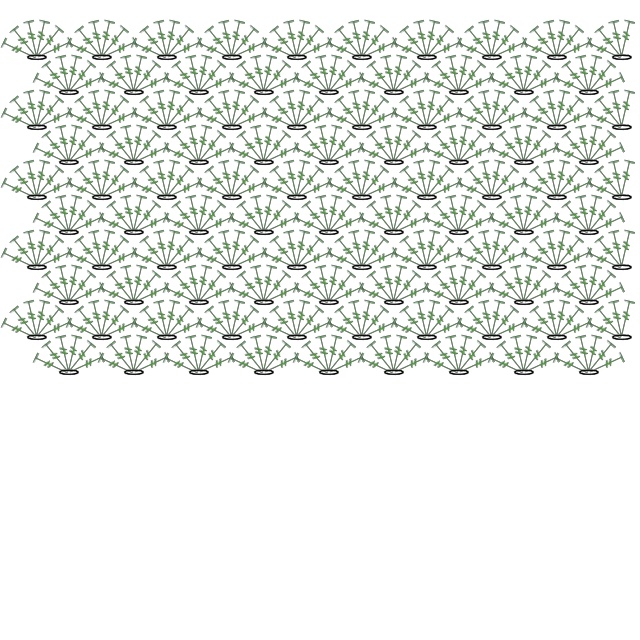chain: (57, 88, 81, 98), (122, 88, 146, 98), (187, 88, 211, 98), (252, 88, 276, 98), (317, 88, 341, 98), (382, 88, 406, 98), (447, 88, 471, 98), (512, 88, 536, 98), (577, 88, 601, 98), (57, 158, 81, 168), (122, 158, 146, 168), (187, 158, 211, 168), (252, 158, 276, 168), (317, 158, 341, 168), (382, 158, 406, 168), (447, 158, 471, 168), (512, 158, 536, 168), (577, 158, 601, 168), (57, 228, 81, 238), (122, 228, 146, 238), (187, 228, 211, 238), (252, 228, 276, 238), (317, 228, 341, 238), (382, 228, 406, 238), (447, 228, 471, 238), (512, 228, 536, 238), (577, 228, 601, 238), (57, 298, 81, 308), (122, 298, 146, 308), (187, 298, 211, 308), (252, 298, 276, 308), (317, 298, 341, 308), (382, 298, 406, 308), (447, 298, 471, 308), (512, 298, 536, 308), (577, 298, 601, 308), (57, 368, 81, 378), (122, 368, 146, 378), (187, 368, 211, 378), (252, 368, 276, 378), (317, 368, 341, 378), (382, 368, 406, 378), (447, 368, 471, 378), (512, 368, 536, 378), (577, 368, 601, 378), (25, 54, 49, 62), (90, 54, 114, 62), (155, 54, 179, 62), (220, 54, 244, 62), (285, 54, 309, 62), (350, 54, 374, 62), (415, 54, 439, 62), (480, 54, 504, 62), (545, 54, 569, 62), (610, 54, 634, 62), (25, 124, 49, 132), (90, 124, 114, 132), (155, 124, 179, 132), (220, 124, 244, 132), (285, 124, 309, 132), (350, 124, 374, 132), (415, 124, 439, 132), (480, 124, 504, 132), (545, 124, 569, 132), (610, 124, 634, 132), (25, 194, 49, 202), (90, 194, 114, 202), (155, 194, 179, 202), (220, 194, 244, 202), (285, 194, 309, 202), (350, 194, 374, 202), (415, 194, 439, 202), (480, 194, 504, 202), (545, 194, 569, 202), (610, 194, 634, 202), (25, 264, 49, 272), (90, 264, 114, 272), (155, 264, 179, 272), (220, 264, 244, 272), (285, 264, 309, 272), (350, 264, 374, 272), (415, 264, 439, 272), (480, 264, 504, 272), (545, 264, 569, 272), (610, 264, 634, 272), (25, 334, 49, 342), (90, 334, 114, 342), (155, 334, 179, 342), (220, 334, 244, 342), (285, 334, 309, 342), (350, 334, 374, 342), (415, 334, 439, 342), (480, 334, 504, 342), (545, 334, 569, 342), (610, 334, 634, 342)
fan: (8, 24, 42, 62), (32, 24, 66, 62), (73, 24, 107, 62), (97, 24, 131, 62), (138, 24, 172, 62), (162, 24, 196, 62), (203, 24, 237, 62), (227, 24, 261, 62), (268, 24, 302, 62), (292, 24, 326, 62), (333, 24, 367, 62), (357, 24, 391, 62), (398, 24, 432, 62), (422, 24, 456, 62), (463, 24, 497, 62), (487, 24, 521, 62), (528, 24, 562, 62), (552, 24, 586, 62), (593, 24, 627, 62), (40, 59, 74, 97), (64, 59, 98, 97), (105, 59, 139, 97), (129, 59, 163, 97), (170, 59, 204, 97), (194, 59, 228, 97), (235, 59, 269, 97), (259, 59, 293, 97), (300, 59, 334, 97), (324, 59, 358, 97), (365, 59, 399, 97), (389, 59, 423, 97), (430, 59, 464, 97), (454, 59, 488, 97), (495, 59, 529, 97), (519, 59, 553, 97), (560, 59, 594, 97), (584, 59, 618, 97), (8, 94, 42, 132), (32, 94, 66, 132), (73, 94, 107, 132), (97, 94, 131, 132), (138, 94, 172, 132), (162, 94, 196, 132), (203, 94, 237, 132), (227, 94, 261, 132), (268, 94, 302, 132), (292, 94, 326, 132), (333, 94, 367, 132), (357, 94, 391, 132), (398, 94, 432, 132), (422, 94, 456, 132), (463, 94, 497, 132), (487, 94, 521, 132), (528, 94, 562, 132), (552, 94, 586, 132), (593, 94, 627, 132), (40, 129, 74, 167), (64, 129, 98, 167), (105, 129, 139, 167), (129, 129, 163, 167), (170, 129, 204, 167), (194, 129, 228, 167), (235, 129, 269, 167), (259, 129, 293, 167), (300, 129, 334, 167), (324, 129, 358, 167), (365, 129, 399, 167), (389, 129, 423, 167), (430, 129, 464, 167), (454, 129, 488, 167), (495, 129, 529, 167), (519, 129, 553, 167), (560, 129, 594, 167), (584, 129, 618, 167), (8, 164, 42, 202), (32, 164, 66, 202), (73, 164, 107, 202), (97, 164, 131, 202), (138, 164, 172, 202), (162, 164, 196, 202), (203, 164, 237, 202), (227, 164, 261, 202), (268, 164, 302, 202), (292, 164, 326, 202), (333, 164, 367, 202), (357, 164, 391, 202), (398, 164, 432, 202), (422, 164, 456, 202), (463, 164, 497, 202), (487, 164, 521, 202), (528, 164, 562, 202), (552, 164, 586, 202), (593, 164, 627, 202), (40, 199, 74, 237), (64, 199, 98, 237), (105, 199, 139, 237), (129, 199, 163, 237), (170, 199, 204, 237), (194, 199, 228, 237), (235, 199, 269, 237), (259, 199, 293, 237), (300, 199, 334, 237), (324, 199, 358, 237), (365, 199, 399, 237), (389, 199, 423, 237), (430, 199, 464, 237), (454, 199, 488, 237), (495, 199, 529, 237), (519, 199, 553, 237), (560, 199, 594, 237), (584, 199, 618, 237), (8, 234, 42, 272), (32, 234, 66, 272), (73, 234, 107, 272), (97, 234, 131, 272), (138, 234, 172, 272), (162, 234, 196, 272), (203, 234, 237, 272), (227, 234, 261, 272), (268, 234, 302, 272), (292, 234, 326, 272), (333, 234, 367, 272), (357, 234, 391, 272), (398, 234, 432, 272), (422, 234, 456, 272), (463, 234, 497, 272), (487, 234, 521, 272), (528, 234, 562, 272), (552, 234, 586, 272), (593, 234, 627, 272), (40, 269, 74, 307), (64, 269, 98, 307), (105, 269, 139, 307), (129, 269, 163, 307), (170, 269, 204, 307), (194, 269, 228, 307), (235, 269, 269, 307), (259, 269, 293, 307), (300, 269, 334, 307), (324, 269, 358, 307), (365, 269, 399, 307), (389, 269, 423, 307), (430, 269, 464, 307), (454, 269, 488, 307), (495, 269, 529, 307), (519, 269, 553, 307), (560, 269, 594, 307), (584, 269, 618, 307), (8, 304, 42, 342), (32, 304, 66, 342), (73, 304, 107, 342), (97, 304, 131, 342), (138, 304, 172, 342), (162, 304, 196, 342), (203, 304, 237, 342), (227, 304, 261, 342), (268, 304, 302, 342), (292, 304, 326, 342), (333, 304, 367, 342), (357, 304, 391, 342), (398, 304, 432, 342), (422, 304, 456, 342), (463, 304, 497, 342), (487, 304, 521, 342), (528, 304, 562, 342), (552, 304, 586, 342), (593, 304, 627, 342), (40, 339, 74, 377), (64, 339, 98, 377), (105, 339, 139, 377), (129, 339, 163, 377), (170, 339, 204, 377), (194, 339, 228, 377), (235, 339, 269, 377), (259, 339, 293, 377), (300, 339, 334, 377), (324, 339, 358, 377), (365, 339, 399, 377), (389, 339, 423, 377), (430, 339, 464, 377), (454, 339, 488, 377), (495, 339, 529, 377), (519, 339, 553, 377), (560, 339, 594, 377), (584, 339, 618, 377), (0, 36, 40, 64), (34, 36, 74, 64), (65, 36, 105, 64), (99, 36, 139, 64), (130, 36, 170, 64), (164, 36, 204, 64), (195, 36, 235, 64), (229, 36, 269, 64), (260, 36, 300, 64), (294, 36, 334, 64), (325, 36, 365, 64), (359, 36, 399, 64), (390, 36, 430, 64), (424, 36, 464, 64), (455, 36, 495, 64), (489, 36, 529, 64), (520, 36, 560, 64), (554, 36, 594, 64), (585, 36, 625, 64), (32, 71, 72, 99), (66, 71, 106, 99), (97, 71, 137, 99), (131, 71, 171, 99), (162, 71, 202, 99), (196, 71, 236, 99), (227, 71, 267, 99), (261, 71, 301, 99), (292, 71, 332, 99), (326, 71, 366, 99), (357, 71, 397, 99), (391, 71, 431, 99), (422, 71, 462, 99), (456, 71, 496, 99), (487, 71, 527, 99), (521, 71, 561, 99), (552, 71, 592, 99), (586, 71, 626, 99), (0, 106, 40, 134), (34, 106, 74, 134), (65, 106, 105, 134), (99, 106, 139, 134), (130, 106, 170, 134), (164, 106, 204, 134), (195, 106, 235, 134), (229, 106, 269, 134), (260, 106, 300, 134), (294, 106, 334, 134), (325, 106, 365, 134), (359, 106, 399, 134), (390, 106, 430, 134), (424, 106, 464, 134), (455, 106, 495, 134), (489, 106, 529, 134), (520, 106, 560, 134), (554, 106, 594, 134), (585, 106, 625, 134), (32, 141, 72, 169), (66, 141, 106, 169), (97, 141, 137, 169), (131, 141, 171, 169), (162, 141, 202, 169), (196, 141, 236, 169), (227, 141, 267, 169), (261, 141, 301, 169), (292, 141, 332, 169), (326, 141, 366, 169), (357, 141, 397, 169), (391, 141, 431, 169), (422, 141, 462, 169), (456, 141, 496, 169), (487, 141, 527, 169), (521, 141, 561, 169), (552, 141, 592, 169), (586, 141, 626, 169), (0, 176, 40, 204), (34, 176, 74, 204), (65, 176, 105, 204), (99, 176, 139, 204), (130, 176, 170, 204), (164, 176, 204, 204), (195, 176, 235, 204), (229, 176, 269, 204), (260, 176, 300, 204), (294, 176, 334, 204), (325, 176, 365, 204), (359, 176, 399, 204), (390, 176, 430, 204), (424, 176, 464, 204), (455, 176, 495, 204), (489, 176, 529, 204), (520, 176, 560, 204), (554, 176, 594, 204), (585, 176, 625, 204), (32, 211, 72, 239), (66, 211, 106, 239), (97, 211, 137, 239), (131, 211, 171, 239), (162, 211, 202, 239), (196, 211, 236, 239), (227, 211, 267, 239), (261, 211, 301, 239), (292, 211, 332, 239), (326, 211, 366, 239), (357, 211, 397, 239), (391, 211, 431, 239), (422, 211, 462, 239), (456, 211, 496, 239), (487, 211, 527, 239), (521, 211, 561, 239), (552, 211, 592, 239), (586, 211, 626, 239), (0, 246, 40, 274), (34, 246, 74, 274), (65, 246, 105, 274), (99, 246, 139, 274), (130, 246, 170, 274), (164, 246, 204, 274), (195, 246, 235, 274), (229, 246, 269, 274), (260, 246, 300, 274), (294, 246, 334, 274), (325, 246, 365, 274), (359, 246, 399, 274), (390, 246, 430, 274), (424, 246, 464, 274), (455, 246, 495, 274), (489, 246, 529, 274), (520, 246, 560, 274), (554, 246, 594, 274), (585, 246, 625, 274), (32, 281, 72, 309), (66, 281, 106, 309), (97, 281, 137, 309), (131, 281, 171, 309), (162, 281, 202, 309), (196, 281, 236, 309), (227, 281, 267, 309), (261, 281, 301, 309), (292, 281, 332, 309), (326, 281, 366, 309), (357, 281, 397, 309), (391, 281, 431, 309), (422, 281, 462, 309), (456, 281, 496, 309), (487, 281, 527, 309), (521, 281, 561, 309), (552, 281, 592, 309), (586, 281, 626, 309), (0, 316, 40, 344), (34, 316, 74, 344), (65, 316, 105, 344), (99, 316, 139, 344), (130, 316, 170, 344), (164, 316, 204, 344), (195, 316, 235, 344), (229, 316, 269, 344), (260, 316, 300, 344), (294, 316, 334, 344), (325, 316, 365, 344), (359, 316, 399, 344), (390, 316, 430, 344), (424, 316, 464, 344), (455, 316, 495, 344), (489, 316, 529, 344), (520, 316, 560, 344), (554, 316, 594, 344), (585, 316, 625, 344), (32, 351, 72, 379), (66, 351, 106, 379), (97, 351, 137, 379), (131, 351, 171, 379), (162, 351, 202, 379), (196, 351, 236, 379), (227, 351, 267, 379), (261, 351, 301, 379), (292, 351, 332, 379), (326, 351, 366, 379), (357, 351, 397, 379), (391, 351, 431, 379), (422, 351, 462, 379), (456, 351, 496, 379), (487, 351, 527, 379), (521, 351, 561, 379), (552, 351, 592, 379), (586, 351, 626, 379), (22, 20, 43, 59), (31, 20, 52, 59), (87, 20, 108, 59), (96, 20, 117, 59), (152, 20, 173, 59), (161, 20, 182, 59), (217, 20, 238, 59), (226, 20, 247, 59), (282, 20, 303, 59), (291, 20, 312, 59), (347, 20, 368, 59), (356, 20, 377, 59), (412, 20, 433, 59), (421, 20, 442, 59), (477, 20, 498, 59), (486, 20, 507, 59), (542, 20, 563, 59), (551, 20, 572, 59), (607, 20, 628, 59), (616, 20, 637, 59), (54, 55, 75, 94), (63, 55, 84, 94), (119, 55, 140, 94), (128, 55, 149, 94), (184, 55, 205, 94), (193, 55, 214, 94), (249, 55, 270, 94), (258, 55, 279, 94), (314, 55, 335, 94), (323, 55, 344, 94), (379, 55, 400, 94), (388, 55, 409, 94), (444, 55, 465, 94), (453, 55, 474, 94), (509, 55, 530, 94), (518, 55, 539, 94), (574, 55, 595, 94), (583, 55, 604, 94), (22, 90, 43, 129), (31, 90, 52, 129), (87, 90, 108, 129), (96, 90, 117, 129), (152, 90, 173, 129), (161, 90, 182, 129), (217, 90, 238, 129), (226, 90, 247, 129), (282, 90, 303, 129), (291, 90, 312, 129), (347, 90, 368, 129), (356, 90, 377, 129), (412, 90, 433, 129), (421, 90, 442, 129), (477, 90, 498, 129), (486, 90, 507, 129), (542, 90, 563, 129), (551, 90, 572, 129), (607, 90, 628, 129), (616, 90, 637, 129), (54, 125, 75, 164), (63, 125, 84, 164), (119, 125, 140, 164), (128, 125, 149, 164), (184, 125, 205, 164), (193, 125, 214, 164), (249, 125, 270, 164), (258, 125, 279, 164), (314, 125, 335, 164), (323, 125, 344, 164), (379, 125, 400, 164), (388, 125, 409, 164), (444, 125, 465, 164), (453, 125, 474, 164), (509, 125, 530, 164), (518, 125, 539, 164), (574, 125, 595, 164), (583, 125, 604, 164), (22, 160, 43, 199), (31, 160, 52, 199), (87, 160, 108, 199), (96, 160, 117, 199), (152, 160, 173, 199), (161, 160, 182, 199), (217, 160, 238, 199), (226, 160, 247, 199), (282, 160, 303, 199), (291, 160, 312, 199), (347, 160, 368, 199), (356, 160, 377, 199), (412, 160, 433, 199), (421, 160, 442, 199), (477, 160, 498, 199), (486, 160, 507, 199), (542, 160, 563, 199), (551, 160, 572, 199), (607, 160, 628, 199), (616, 160, 637, 199), (54, 195, 75, 234), (63, 195, 84, 234), (119, 195, 140, 234), (128, 195, 149, 234), (184, 195, 205, 234), (193, 195, 214, 234), (249, 195, 270, 234), (258, 195, 279, 234), (314, 195, 335, 234), (323, 195, 344, 234), (379, 195, 400, 234), (388, 195, 409, 234), (444, 195, 465, 234), (453, 195, 474, 234), (509, 195, 530, 234), (518, 195, 539, 234), (574, 195, 595, 234), (583, 195, 604, 234), (22, 230, 43, 269), (31, 230, 52, 269), (87, 230, 108, 269), (96, 230, 117, 269), (152, 230, 173, 269), (161, 230, 182, 269), (217, 230, 238, 269), (226, 230, 247, 269), (282, 230, 303, 269), (291, 230, 312, 269), (347, 230, 368, 269), (356, 230, 377, 269), (412, 230, 433, 269), (421, 230, 442, 269), (477, 230, 498, 269), (486, 230, 507, 269), (542, 230, 563, 269), (551, 230, 572, 269), (607, 230, 628, 269), (616, 230, 637, 269), (54, 265, 75, 304), (63, 265, 84, 304), (119, 265, 140, 304), (128, 265, 149, 304), (184, 265, 205, 304), (193, 265, 214, 304), (249, 265, 270, 304), (258, 265, 279, 304), (314, 265, 335, 304), (323, 265, 344, 304), (379, 265, 400, 304), (388, 265, 409, 304), (444, 265, 465, 304), (453, 265, 474, 304), (509, 265, 530, 304), (518, 265, 539, 304), (574, 265, 595, 304), (583, 265, 604, 304), (22, 300, 43, 339), (31, 300, 52, 339), (87, 300, 108, 339), (96, 300, 117, 339), (152, 300, 173, 339), (161, 300, 182, 339), (217, 300, 238, 339), (226, 300, 247, 339), (282, 300, 303, 339), (291, 300, 312, 339), (347, 300, 368, 339), (356, 300, 377, 339), (412, 300, 433, 339), (421, 300, 442, 339), (477, 300, 498, 339), (486, 300, 507, 339), (542, 300, 563, 339), (551, 300, 572, 339), (607, 300, 628, 339), (616, 300, 637, 339), (54, 335, 75, 374), (63, 335, 84, 374), (119, 335, 140, 374), (128, 335, 149, 374), (184, 335, 205, 374), (193, 335, 214, 374), (249, 335, 270, 374), (258, 335, 279, 374), (314, 335, 335, 374), (323, 335, 344, 374), (379, 335, 400, 374), (388, 335, 409, 374), (444, 335, 465, 374), (453, 335, 474, 374), (509, 335, 530, 374), (518, 335, 539, 374), (574, 335, 595, 374), (583, 335, 604, 374)
